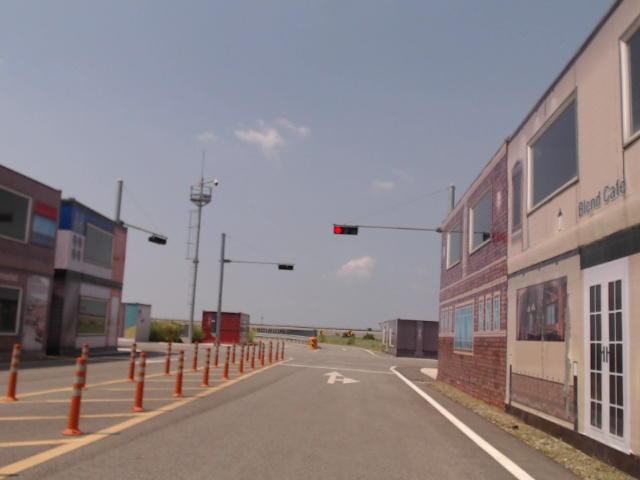red_3: (334, 225, 357, 235)
